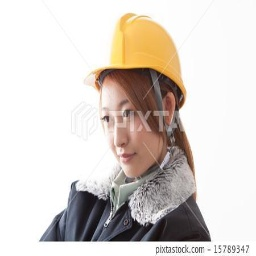helmet: (80, 14, 197, 97)
no-vest: (56, 155, 213, 242)
person: (61, 11, 214, 246)
